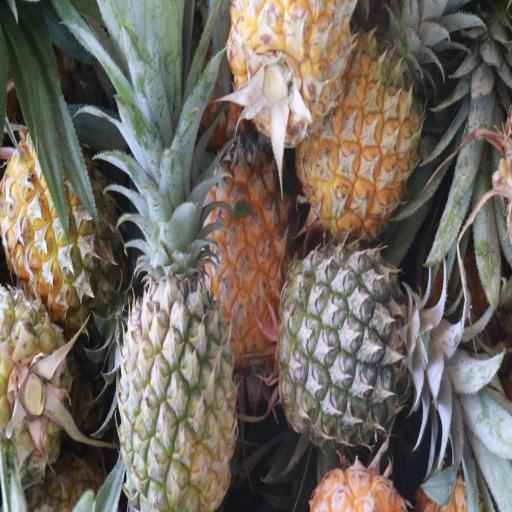------------------------------: (1, 130, 122, 318), (0, 287, 70, 481)
Pineapple - v8 v1: (300, 34, 430, 226), (203, 133, 292, 359), (228, 0, 349, 133)
